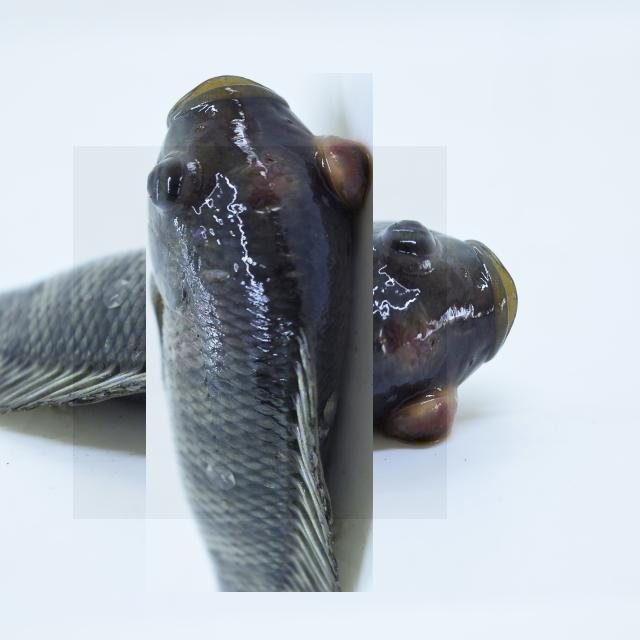streptococcus Disease: (73, 146, 447, 519)
